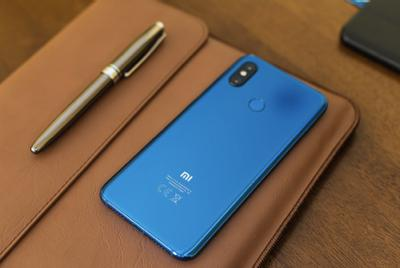Mobile Phone: (98, 52, 328, 260)
